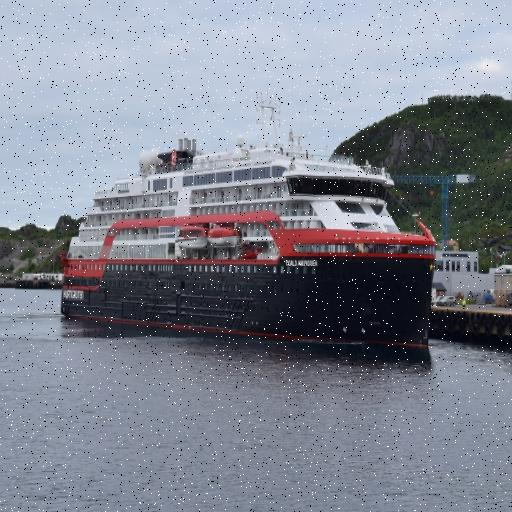cruises: (50, 89, 439, 354)
